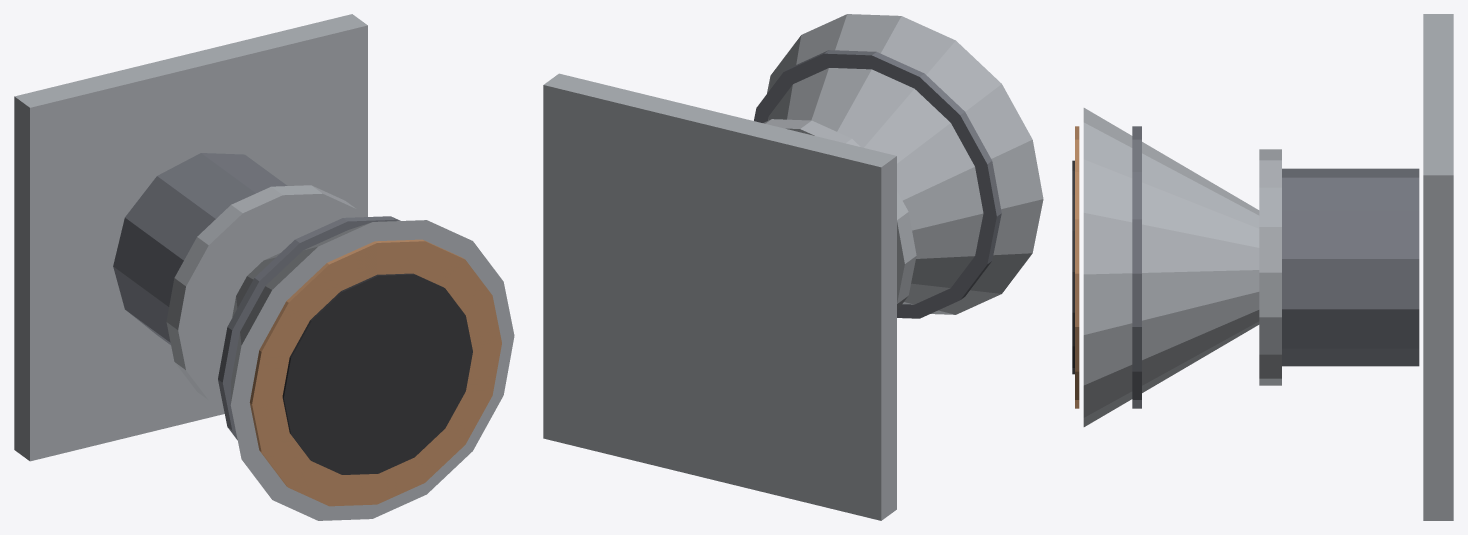
Rendered from shell_bell.glb.
The picture shows the model from 3 angles, left to right: view 1: azimuth 30°, elevation 25°; view 2: azimuth 150°, elevation 25°; view 3: azimuth 270°, elevation 25°; orthographic projection. The views are drawn at different scales.
Bounding box in the file's own units: 1 × 1 × 1.
